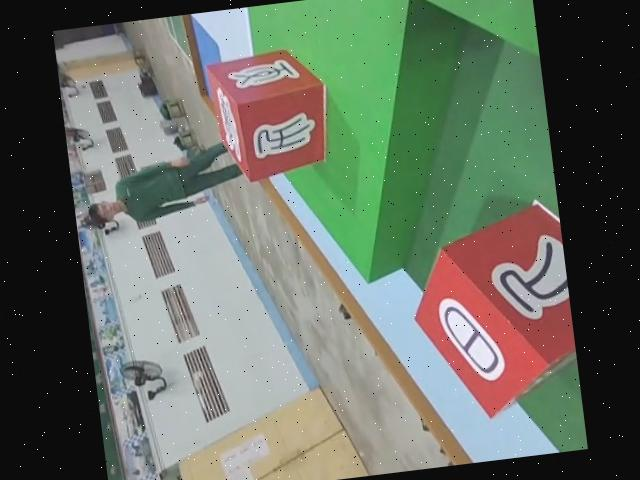R2 Fake: (398, 199, 582, 426), (203, 44, 337, 184)
